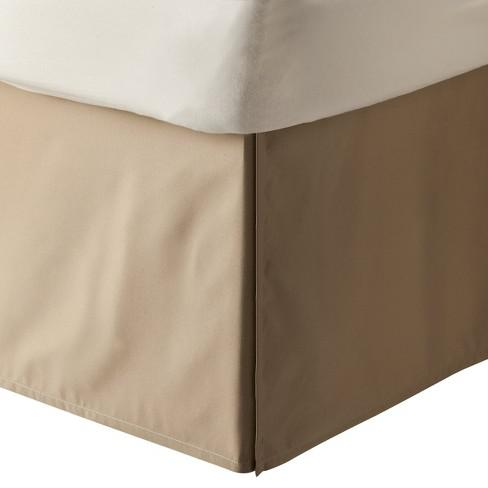bed: (8, 4, 482, 144)
